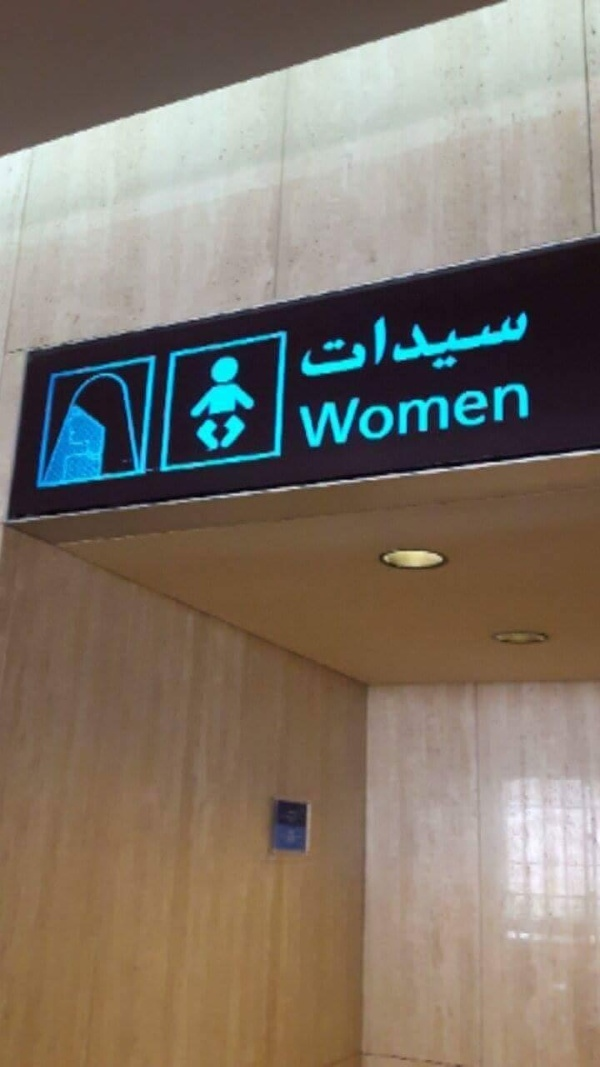text: (305, 294, 320, 395), (321, 294, 336, 395), (337, 294, 352, 395), (353, 294, 368, 395), (369, 294, 384, 395), (385, 294, 400, 395), (401, 294, 416, 395), (417, 294, 432, 395), (433, 294, 448, 395), (449, 294, 464, 395), (465, 294, 480, 395), (481, 294, 496, 395), (497, 294, 512, 395), (513, 294, 528, 395), (305, 374, 320, 453), (321, 374, 336, 453), (337, 374, 352, 453), (353, 374, 368, 453), (369, 374, 384, 453), (385, 374, 400, 453), (401, 374, 416, 453), (417, 374, 432, 453), (433, 374, 448, 453), (449, 374, 464, 453), (465, 374, 480, 453), (481, 374, 496, 453), (497, 374, 512, 453), (513, 374, 528, 453), (294, 374, 304, 453), (529, 374, 535, 453), (300, 294, 304, 395), (529, 294, 532, 395)
